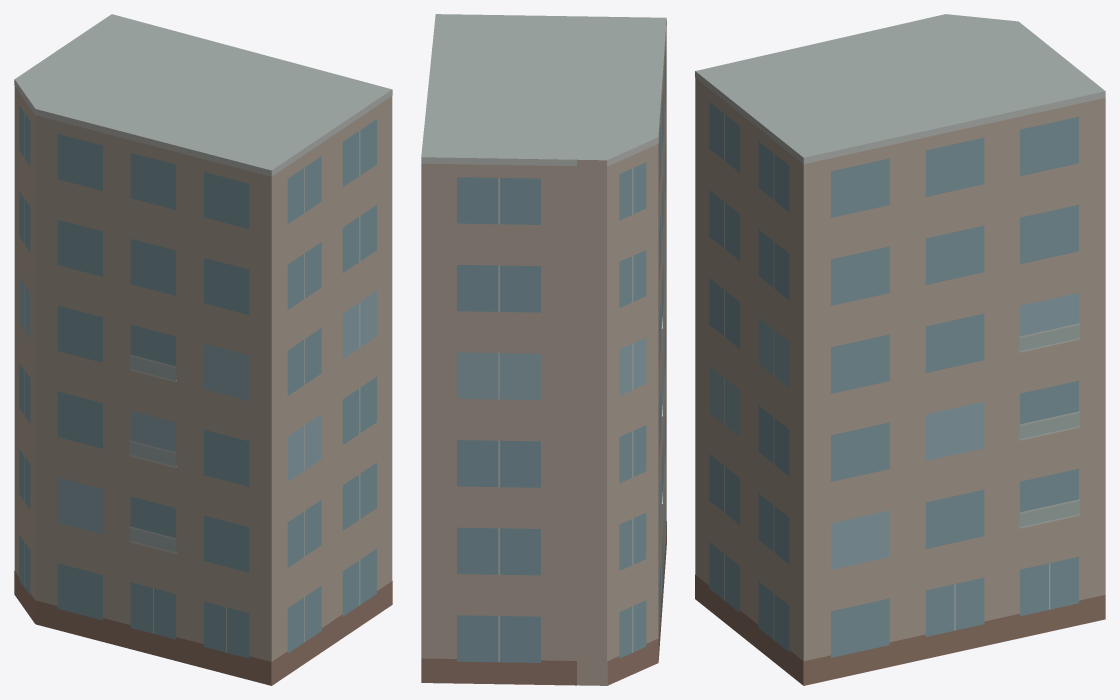
The model's file is survey-upis-32526808.glb.
3 renders of one model, left to right at view 1: azimuth 30°, elevation 25°; view 2: azimuth 150°, elevation 25°; view 3: azimuth 270°, elevation 25°, orthographic. The views are drawn at different scales.
Visible parts, largest first — view 1: survey-upis-32526808.tmp; view 2: survey-upis-32526808.tmp; view 3: survey-upis-32526808.tmp.
Part boxes in pixels (left/top/right/bottom): survey-upis-32526808.tmp: left=14, top=14, right=392, bottom=685; survey-upis-32526808.tmp: left=421, top=14, right=666, bottom=685; survey-upis-32526808.tmp: left=695, top=14, right=1105, bottom=685.
Bounding box in the file's own units: 11.7 × 20 × 14.1.
